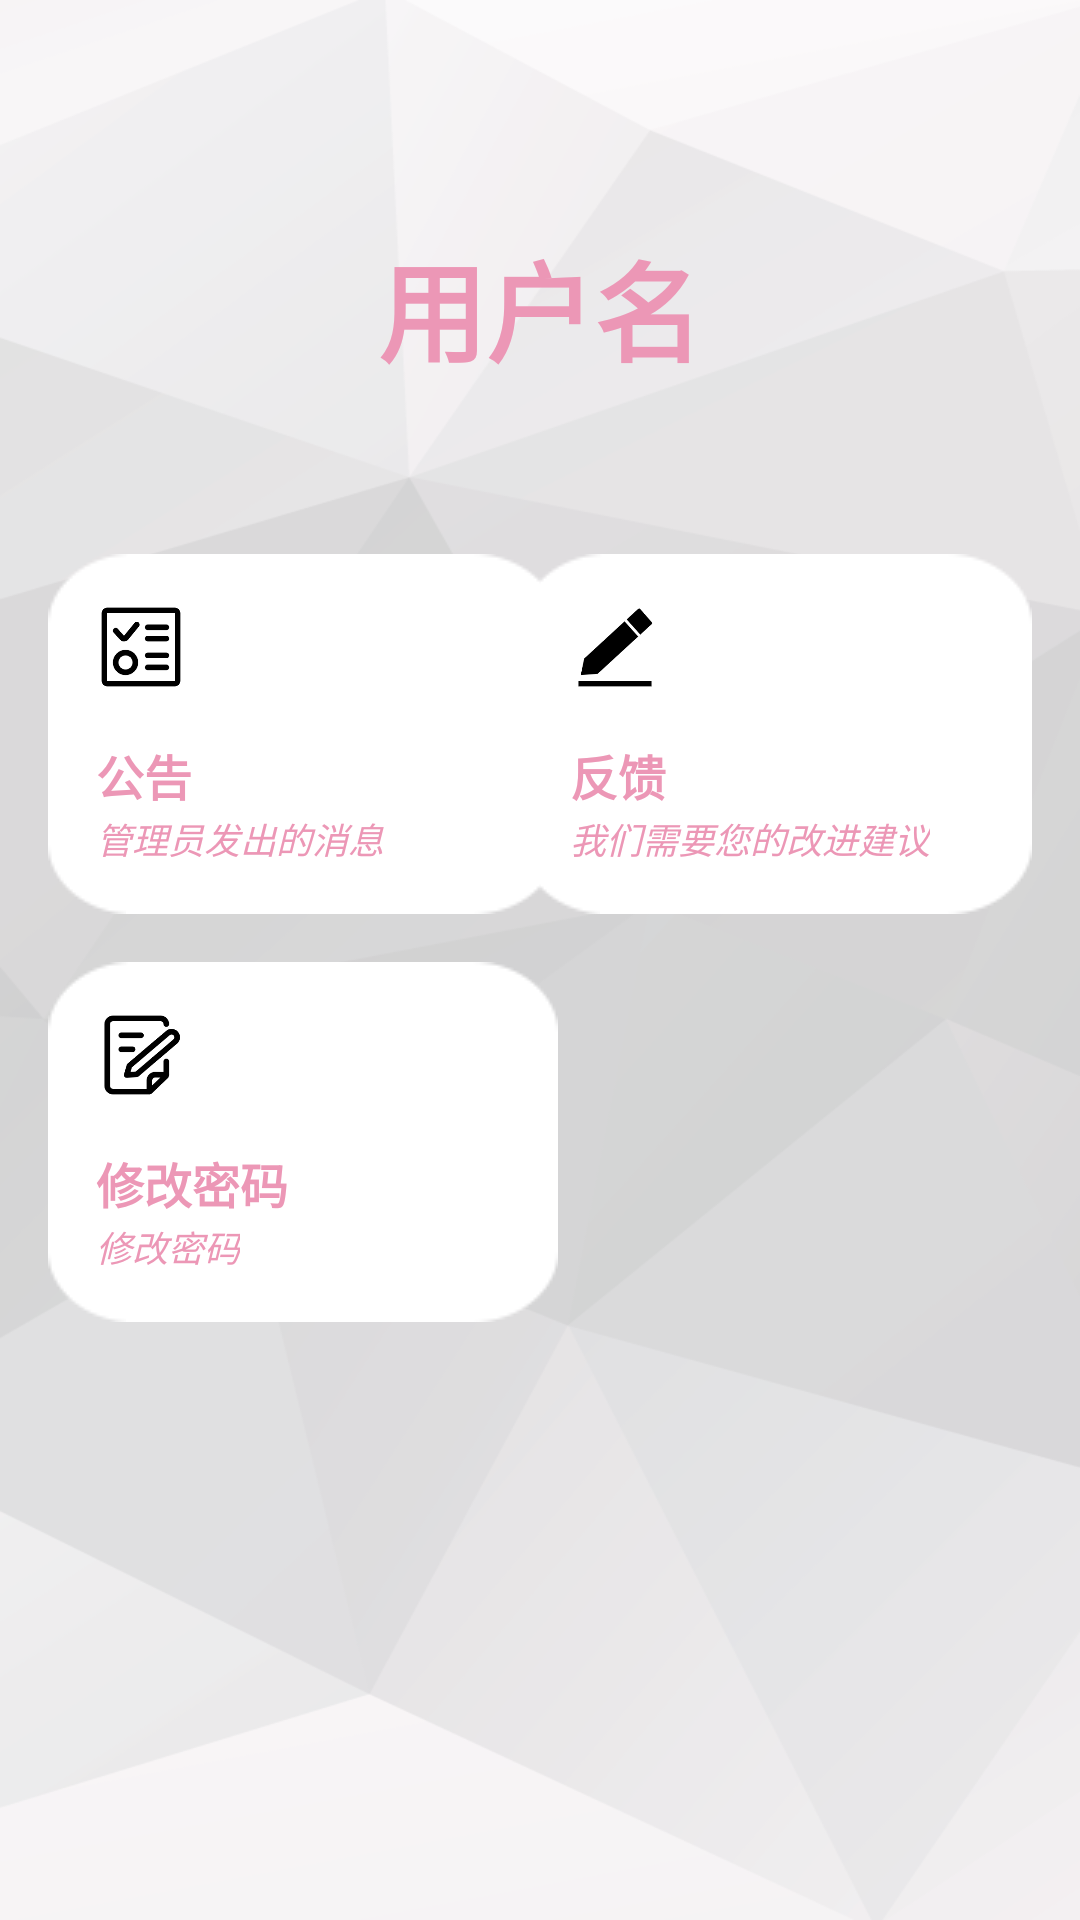

Icons on this 1080 x 1920 Android screen, each with its box as {"left": x1, "top": y1, "right": x2, "bottom": y2}:
feedback: {"left": 578, "top": 608, "right": 652, "bottom": 687}
